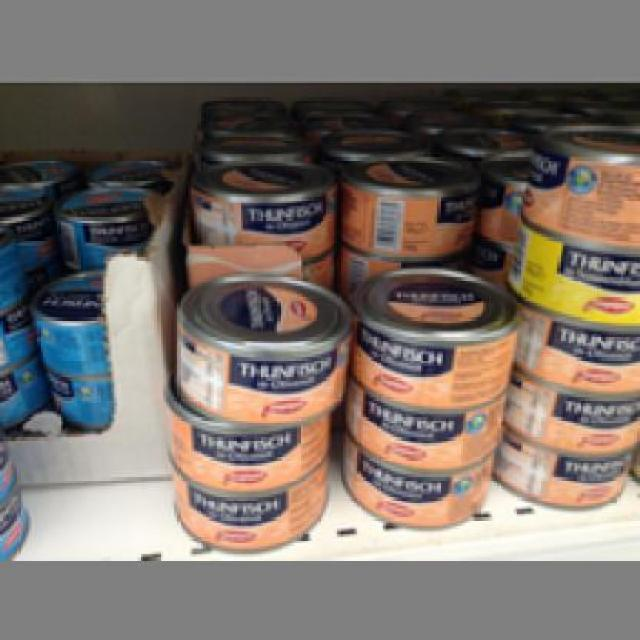Fish: (172, 268, 352, 422), (348, 263, 518, 403), (494, 211, 637, 340), (160, 386, 329, 491), (179, 152, 335, 262), (334, 372, 503, 468), (517, 120, 634, 249), (329, 437, 500, 523), (485, 420, 638, 511), (340, 157, 477, 254), (508, 297, 638, 392)
